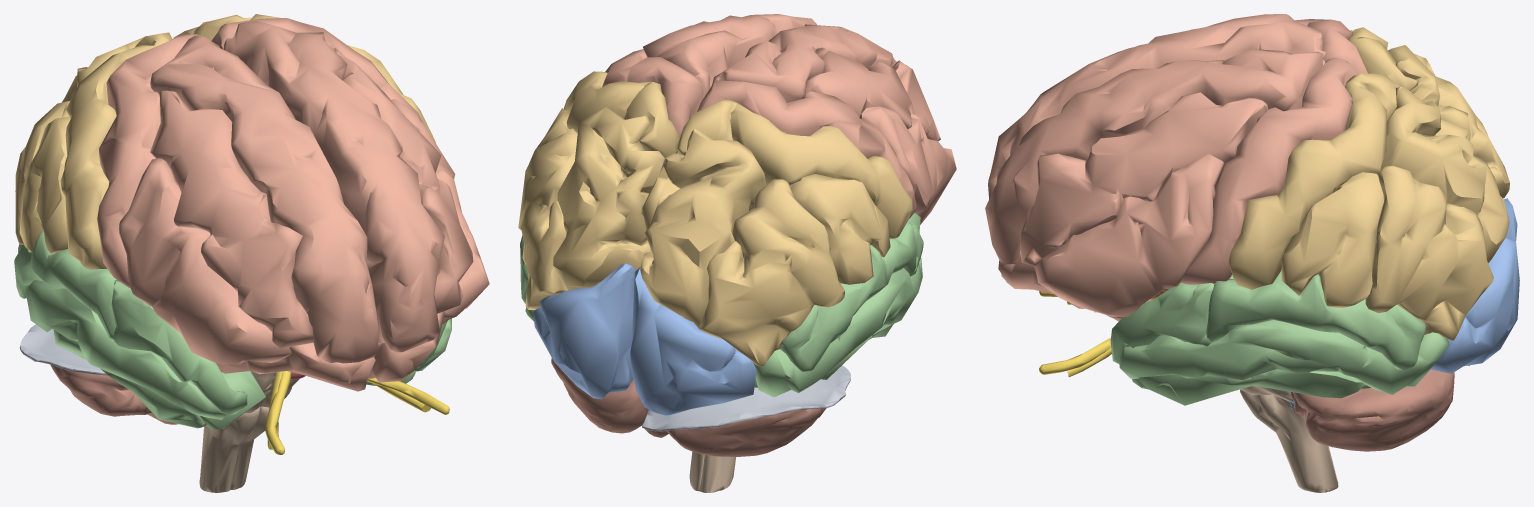
The model's file is gehirn3d.glb.
3 renders of one model, left to right at view 1: azimuth 30°, elevation 25°; view 2: azimuth 150°, elevation 25°; view 3: azimuth 270°, elevation 25°, orthographic. The views are drawn at different scales.
Visible parts, largest first — view 1: Right superior frontal gyrus, Left superior frontal gyrus, Right middle frontal gyrus, Right inferior frontal gyrus, Right precentral gyrus, Right postcentral gyrus, Right middle temporal gyrus, Left middle frontal gyrus, Anterior part of right superior temporal gyrus, Orbital gyrus (×2), Right supramarginal gyrus, Posterior part of right superior temporal gyrus (+11 smaller); view 2: Right angular gyrus, Right superior parietal lobule, Left superior parietal lobule, Right occipital lobe, Right postcentral gyrus, Left occipital lobe, Cerebellum (×2), Right superior frontal gyrus, Left angular gyrus, Right supramarginal gyrus, Right precentral gyrus, Left superior frontal gyrus (+9 smaller); view 3: Left superior frontal gyrus, Left middle frontal gyrus, Left inferior frontal gyrus, Left angular gyrus, Left middle temporal gyrus, Left postcentral gyrus, Left precentral gyrus, Right superior frontal gyrus, Left supramarginal gyrus, Posterior part of left superior temporal gyrus, Left superior parietal lobule, Cerebellum (+9 smaller).
Part boxes in pixels (x1,y1,x2,y2): Right superior frontal gyrus: (150,35,378,363); Left superior frontal gyrus: (223,20,444,352); Right middle frontal gyrus: (150,90,313,348); Right inferior frontal gyrus: (119,158,291,364); Right precentral gyrus: (97,34,198,288); Right postcentral gyrus: (60,32,172,269); Right middle temporal gyrus: (25,280,226,419); Left middle frontal gyrus: (333,47,473,313); Anterior part of right superior temporal gyrus: (111,280,247,415); Orbital gyrus (×2): (216,311,448,391); Right supramarginal gyrus: (19,117,70,253); Posterior part of right superior temporal gyrus: (14,230,116,339); Right angular gyrus: (699,179,844,366); Right superior parietal lobule: (640,128,766,329); Left superior parietal lobule: (553,107,664,290); Right occipital lobe: (630,267,756,416); Right postcentral gyrus: (676,98,912,238); Left occipital lobe: (533,263,635,399); Cerebellum (×2): (551,358,826,456); Right superior frontal gyrus: (712,24,896,102); Left angular gyrus: (518,128,577,310); Right supramarginal gyrus: (790,174,890,284); Right precentral gyrus: (697,80,916,218); Left superior frontal gyrus: (643,14,816,99); Left superior frontal gyrus: (985,49,1325,264); Left middle frontal gyrus: (1020,92,1268,266); Left inferior frontal gyrus: (1035,154,1224,316); Left angular gyrus: (1365,165,1493,340); Left middle temporal gyrus: (1119,320,1449,394); Left postcentral gyrus: (1228,73,1399,289); Left precentral gyrus: (1180,57,1358,284); Right superior frontal gyrus: (988,14,1325,199); Left supramarginal gyrus: (1281,172,1384,307); Posterior part of left superior temporal gyrus: (1206,270,1426,370); Left superior parietal lobule: (1377,86,1509,262); Cerebellum: (1291,369,1454,451).
Bounding box in the file's own units: 0.1415 × 0.1665 × 0.1796.
